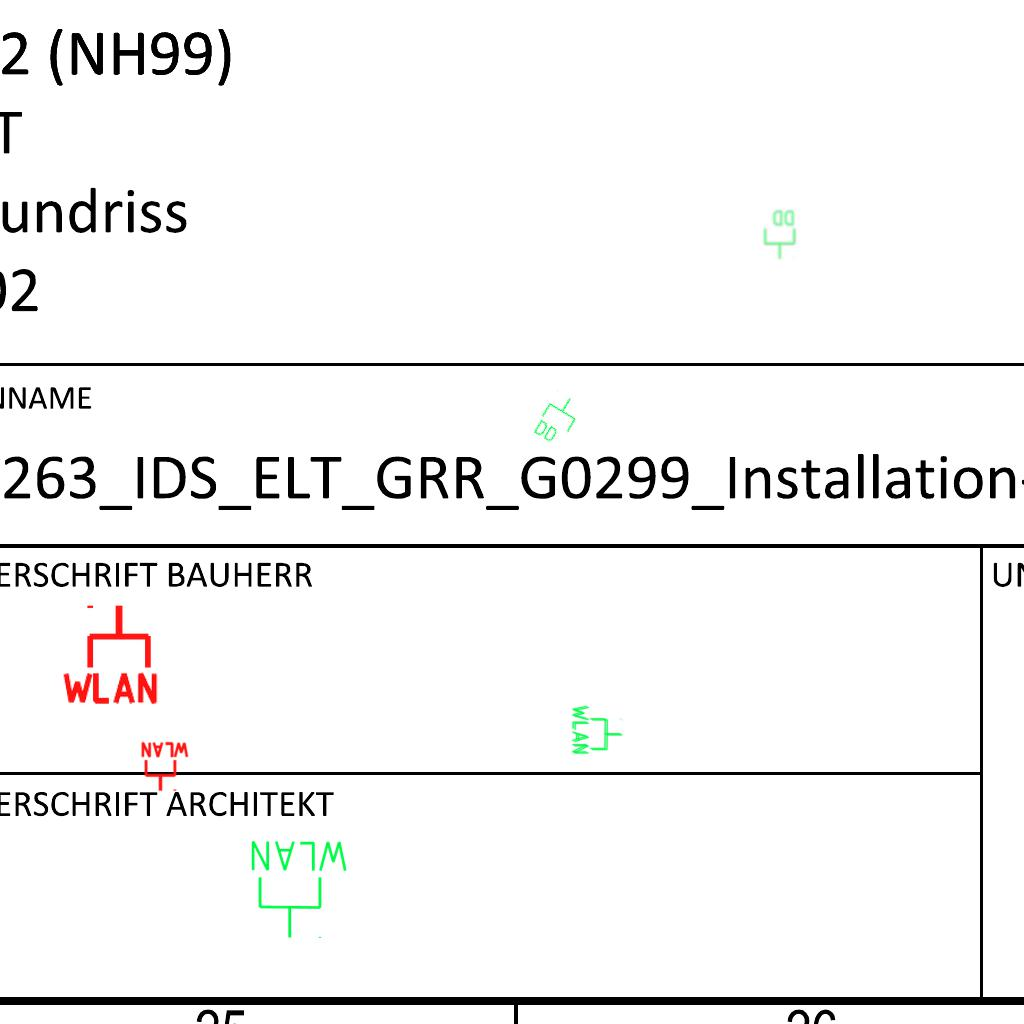Datenanschluss_zweifach: (529, 388, 586, 450), (763, 209, 797, 260)
WLAN: (58, 601, 162, 706), (247, 837, 352, 941), (570, 703, 622, 755), (139, 741, 191, 793), (572, 704, 624, 756)
